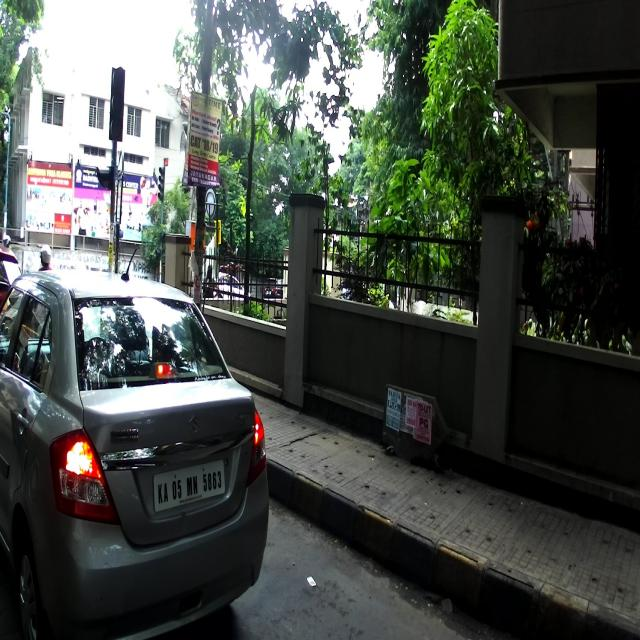Car_Maruti-Suzuki: (0, 245, 268, 638)
